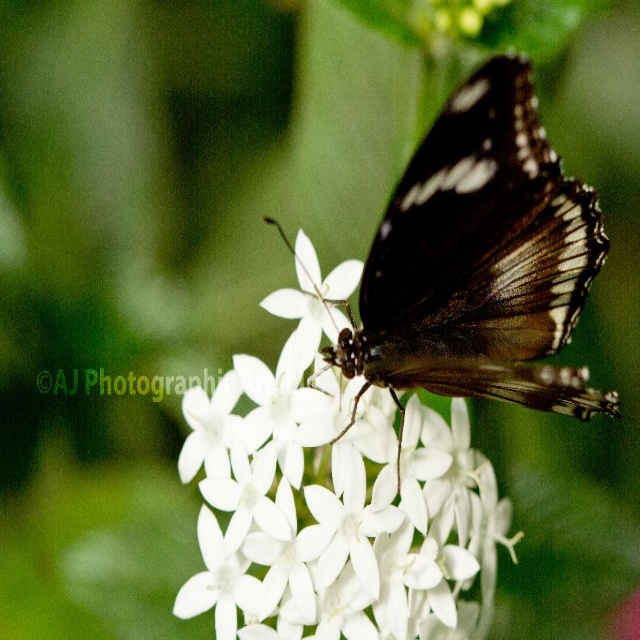Butterfly: (272, 57, 589, 470)
